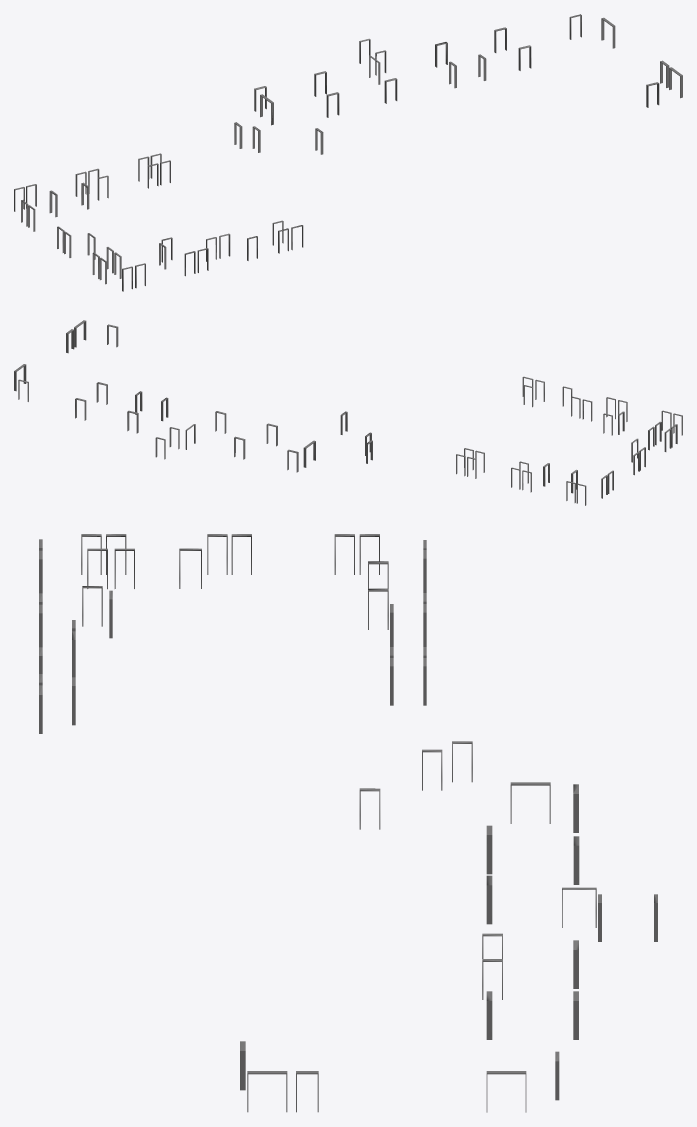
Rendered from envSecondFloor_DoorFrames.fbx.
The picture shows the model from 3 angles, top to bottom: view 1: azimuth 30°, elevation 25°; view 2: azimuth 150°, elevation 25°; view 3: azimuth 270°, elevation 25°; orthographic projection. The views are drawn at different scales.
Visible parts, largest first — view 1: envSecondFloor_DoorFrames; view 2: envSecondFloor_DoorFrames; view 3: envSecondFloor_DoorFrames.
Part boxes in pixels (left/top/right/bottom): envSecondFloor_DoorFrames: left=14, top=14, right=682, bottom=291; envSecondFloor_DoorFrames: left=14, top=320, right=682, bottom=505; envSecondFloor_DoorFrames: left=39, top=534, right=657, bottom=1112.
Bounding box in the file's own units: 6416 × 217 × 3113.
Materials: 1 (1 with a texture image).
